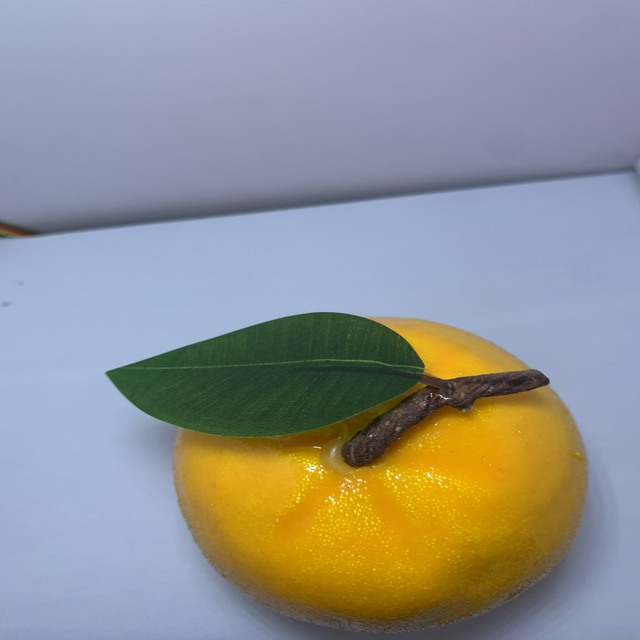Cam vang: (171, 309, 591, 638)
